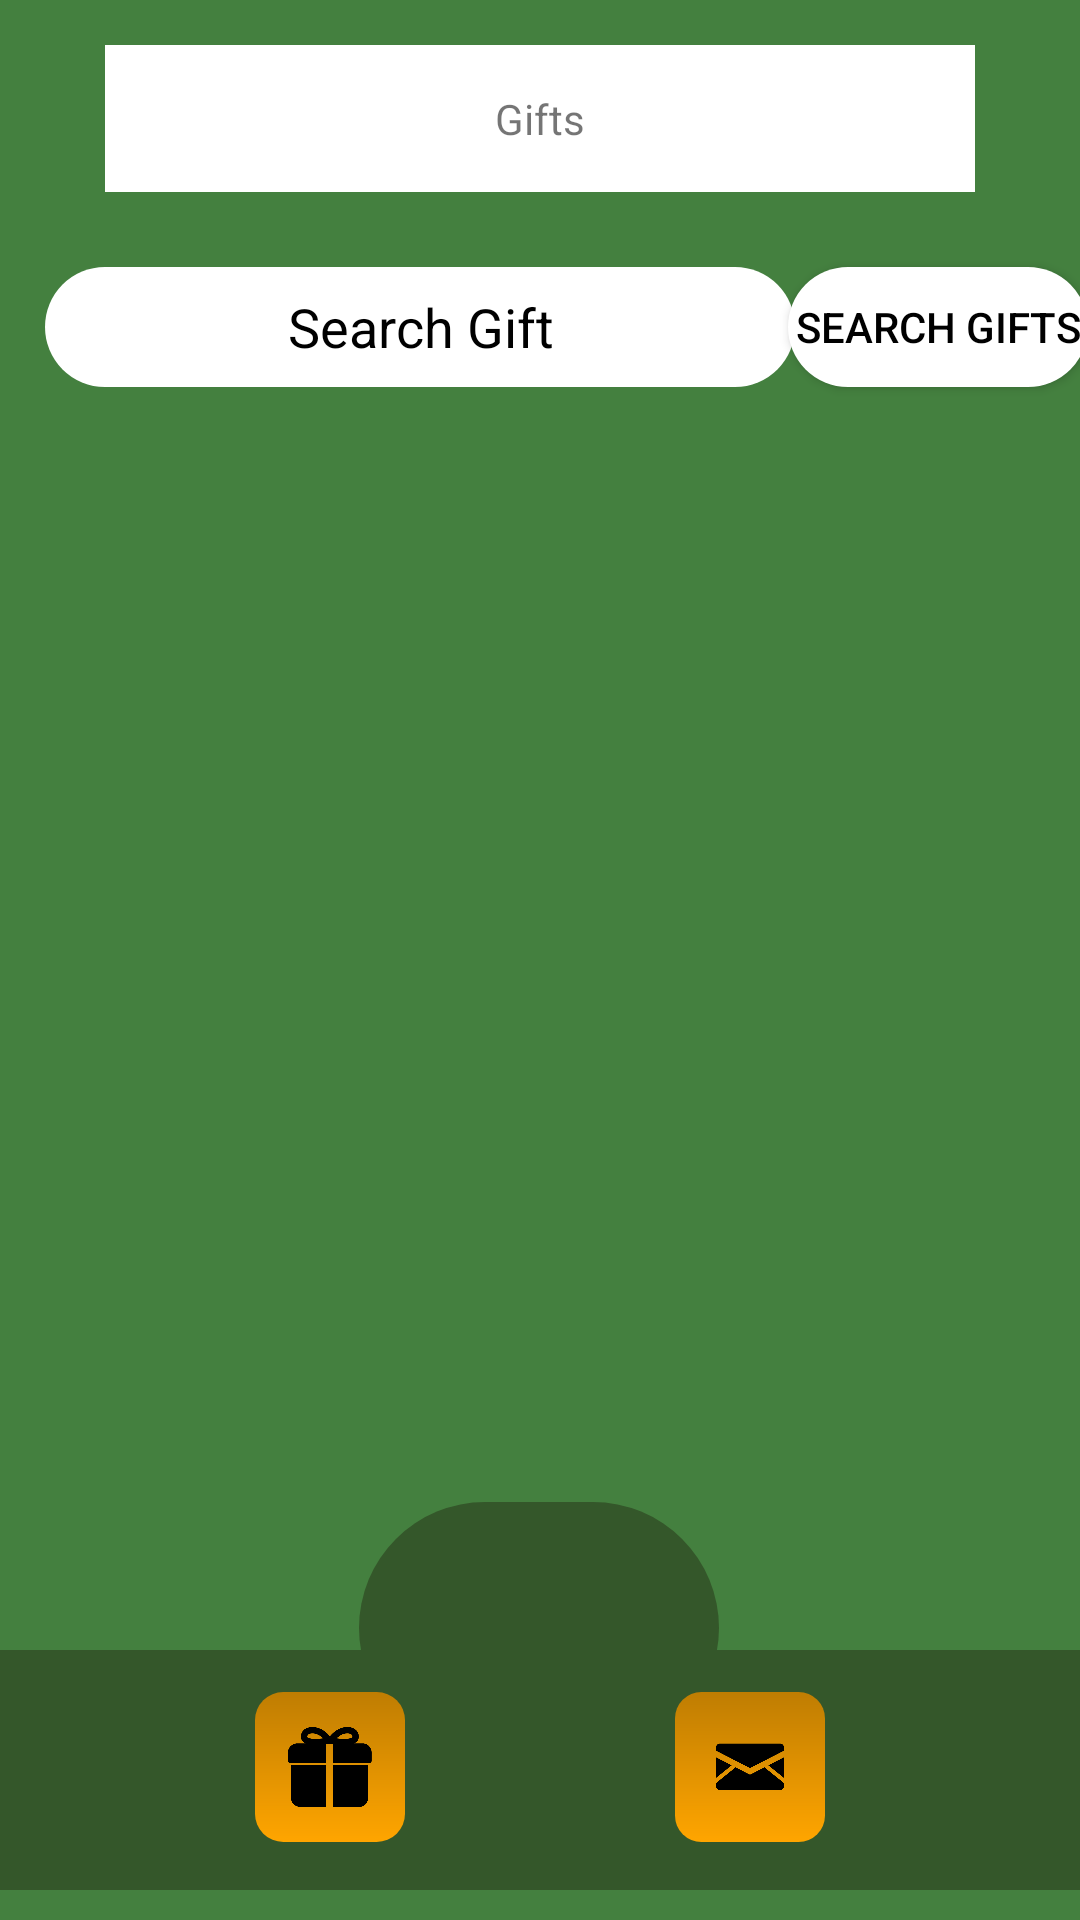

Named icons in this screenshot (1080*1920) and their centers, (x=x, y=y):
bottom menu gift: (x=330, y=1767)
bottom menu mail: (x=750, y=1767)
